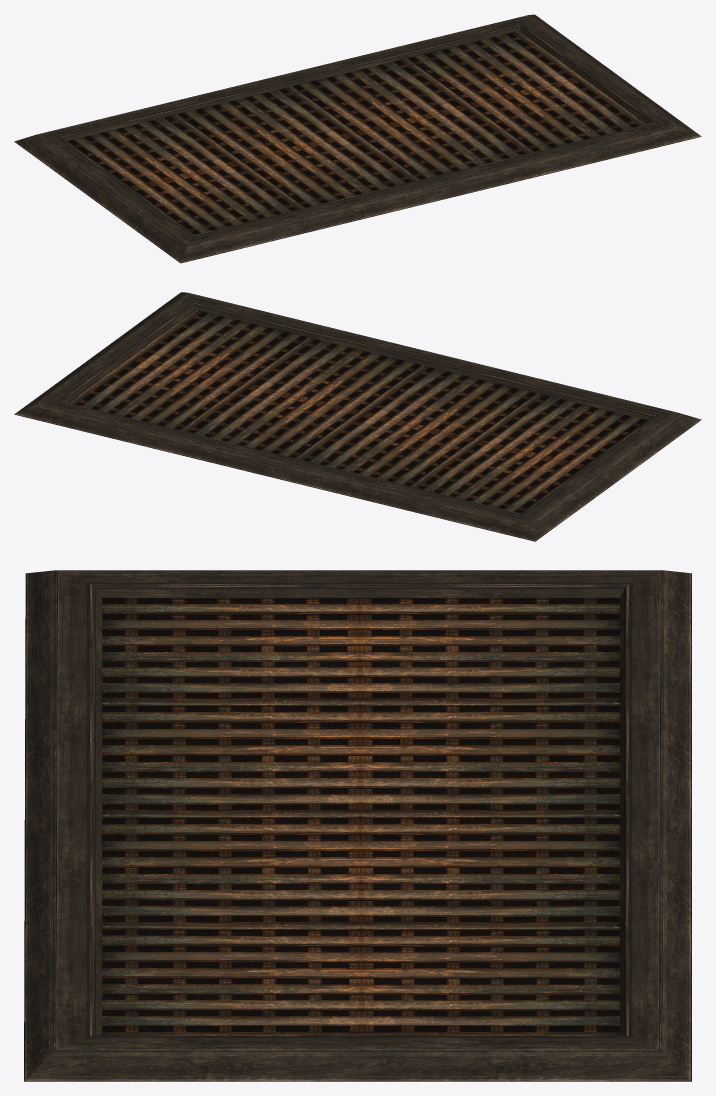
File: vent05.fbx
3 views of the same model, one above another, from view 1: azimuth 30°, elevation 25°; view 2: azimuth 150°, elevation 25°; view 3: azimuth 270°, elevation 25° (orthographic). The views are drawn at different scales.
Parts seen in each view (by area): view 1: vent05; view 2: vent05; view 3: vent05.
Part boxes in pixels (x1,y1,x2,y2): vent05: [14, 14, 701, 263]; vent05: [14, 292, 701, 541]; vent05: [24, 570, 691, 1081].
Bounding box in the file's own units: 6.65 × 0.1053 × 3.7.
